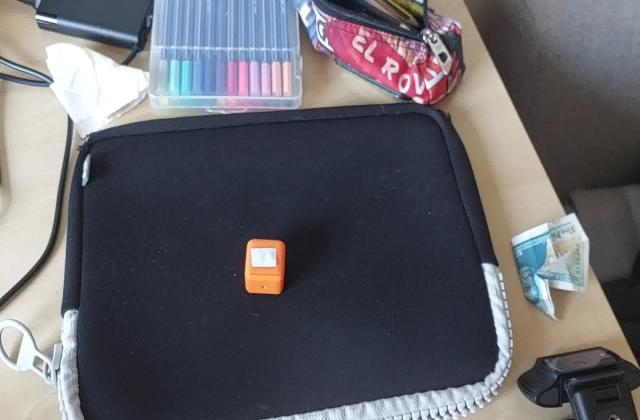sticker: (245, 238, 288, 296)
white: (250, 246, 282, 270)
